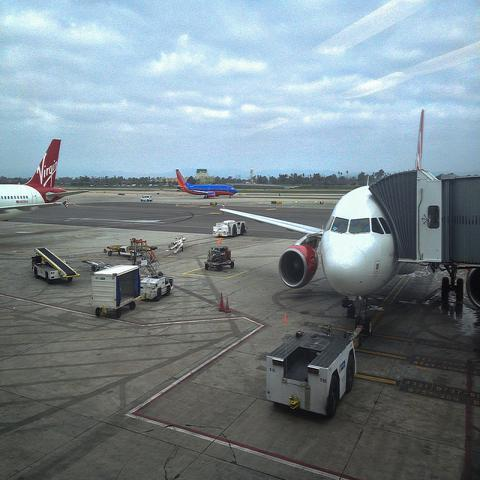car: (141, 195, 152, 202)
truck: (31, 247, 79, 283), (140, 271, 176, 301), (211, 215, 249, 240), (204, 244, 234, 271)
